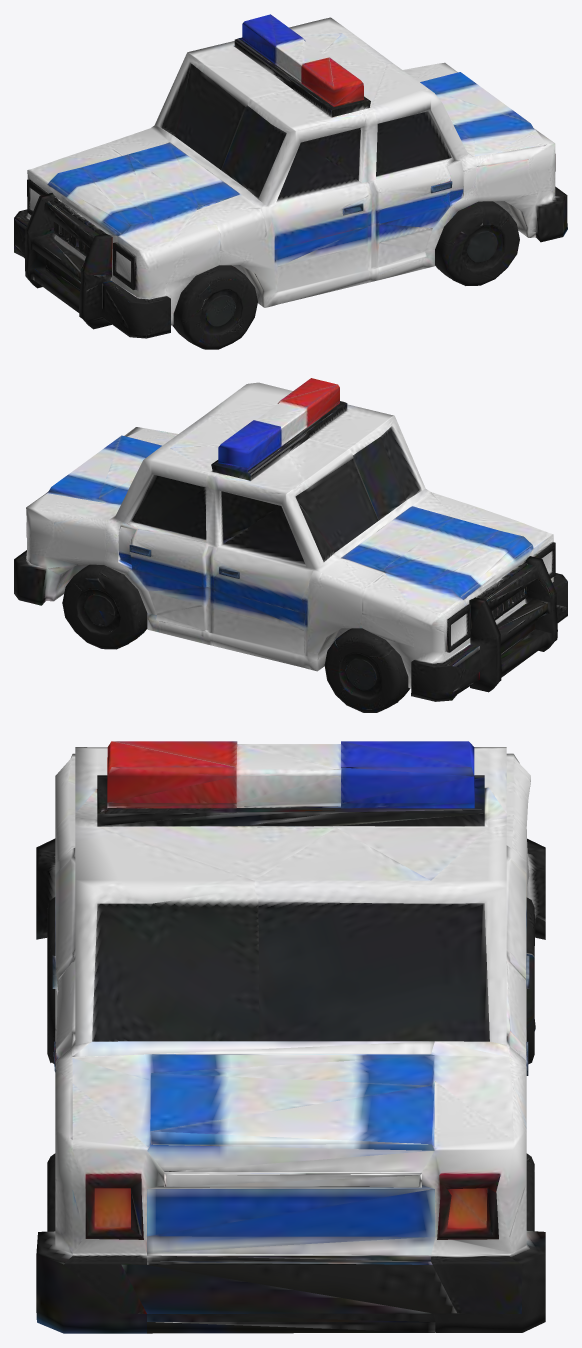
Rendered from 50-police-car.glb.
3 views of the same model, one above another, from view 1: azimuth 30°, elevation 25°; view 2: azimuth 150°, elevation 25°; view 3: azimuth 270°, elevation 25° (orthographic). The views are drawn at different scales.
Visible parts, largest first — view 1: geometry_0; view 2: geometry_0; view 3: geometry_0.
Boxes of the visible parts, x1,y1,x2,y2 form: geometry_0: (14, 14, 567, 349); geometry_0: (14, 378, 567, 712); geometry_0: (36, 741, 545, 1333).
Bounding box in the file's own units: 0.9546 × 0.4428 × 0.4604.
1 material, 1 textured.
